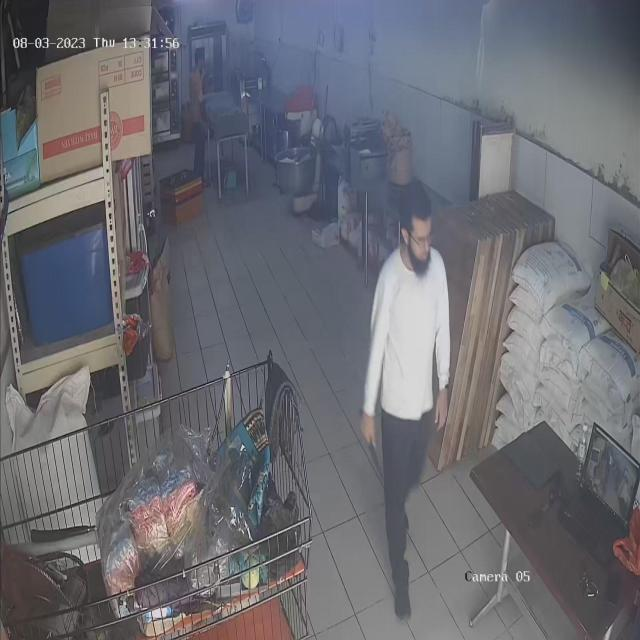Knife: (360, 427, 400, 485)
